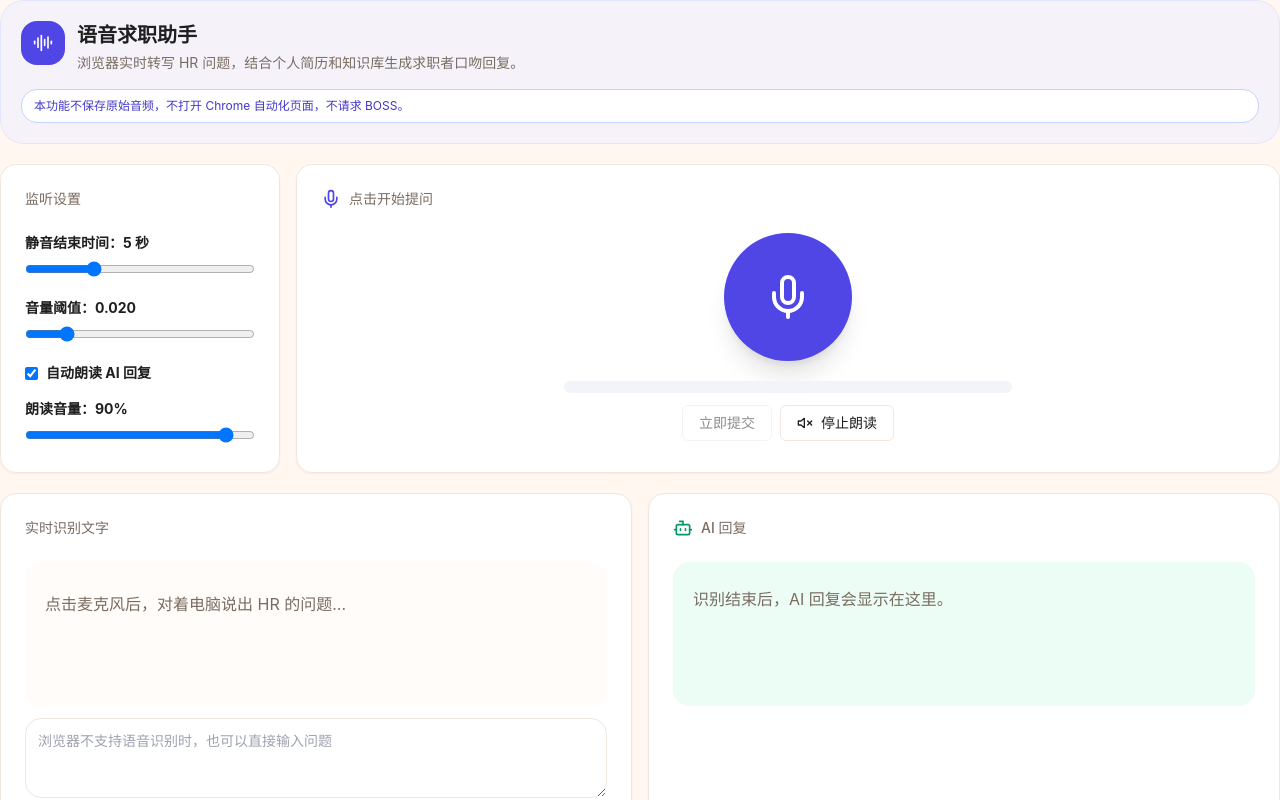
Scenario: VoiceAssistantPage › submits the transcript to the local voice reply API and displays the answer
Type "你之前用 Python 做过什么？" into the text box named "文字降级输入" at (316, 758), box [25,718,607,798]
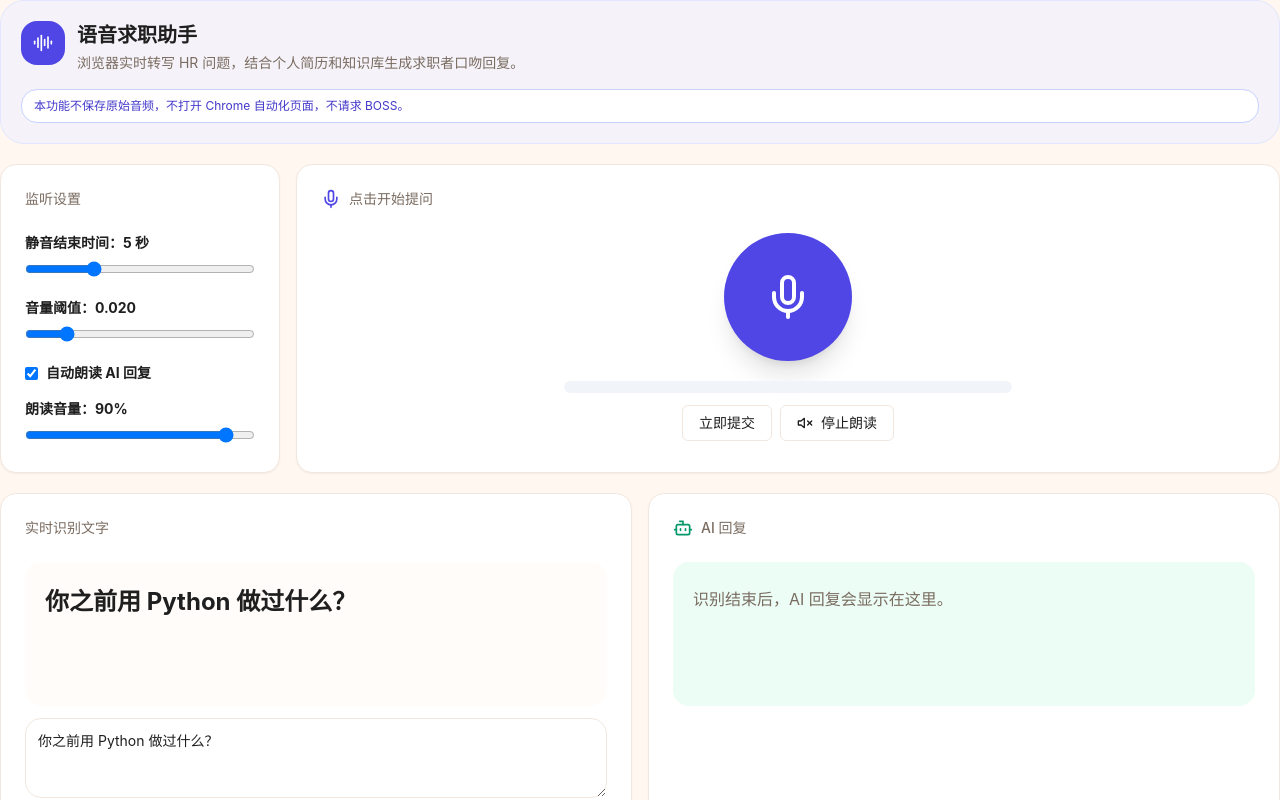
Click the button "立即提交" at (727, 423), box [682,405,772,441]
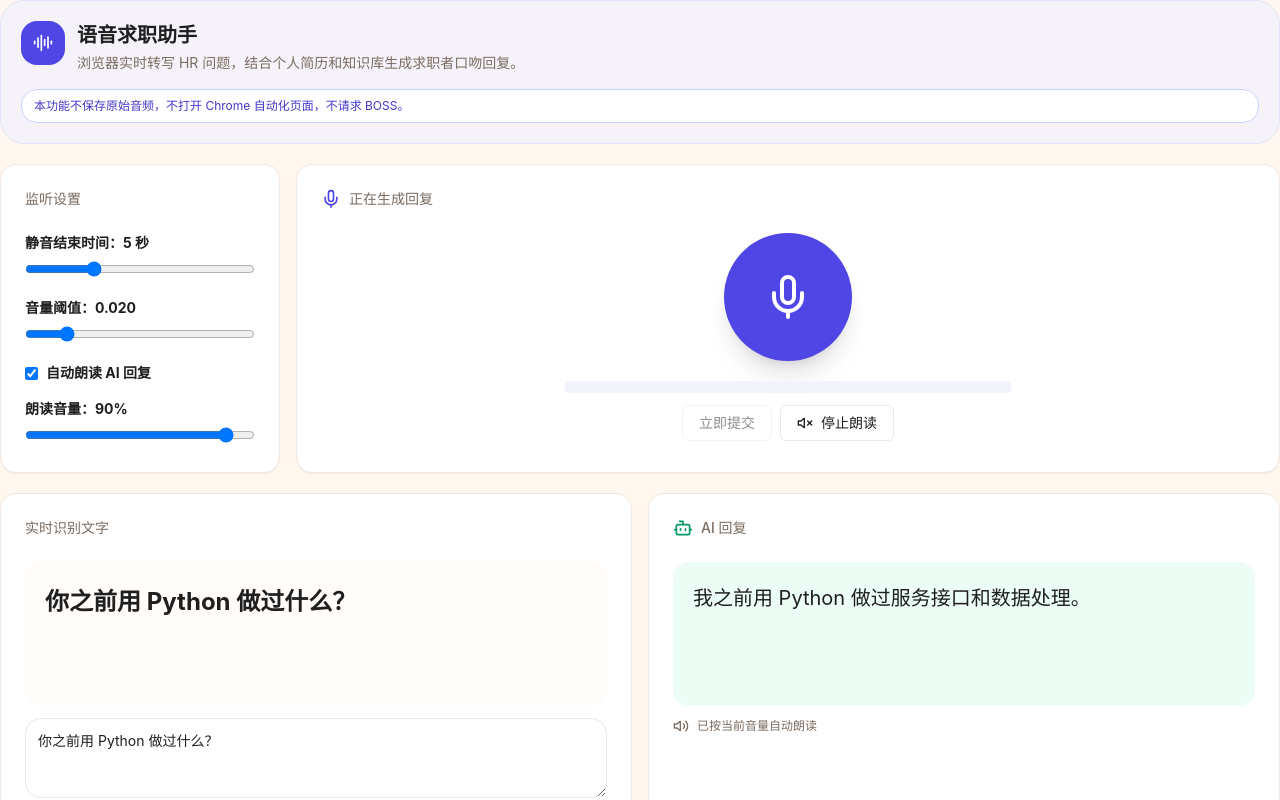
Check: the text "我之前用 Python 做过服务接口和数据处理。" is shown, box [673,562,1255,706]
